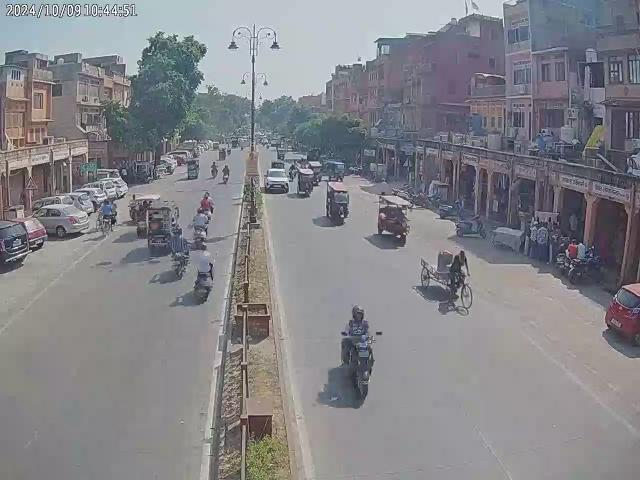auto: (376, 192, 410, 246), (146, 202, 177, 253), (324, 178, 351, 224), (136, 193, 160, 233), (295, 166, 315, 198), (186, 157, 200, 180)
bicycle-rider: (96, 198, 117, 236)
car: (0, 214, 49, 268), (32, 196, 92, 240), (605, 280, 640, 344), (77, 172, 128, 200), (264, 166, 288, 194)
helmet: (351, 305, 366, 322), (199, 242, 208, 250), (176, 226, 183, 233), (196, 208, 204, 214)
motorbike: (567, 253, 604, 285)
motorbike-rider: (168, 226, 192, 278), (193, 206, 210, 247), (220, 163, 231, 183)
person: (527, 216, 550, 262), (210, 161, 218, 180)
rickshow: (418, 246, 474, 316)
scooty: (455, 212, 487, 236), (438, 198, 466, 220)
scooty-rider: (338, 305, 379, 401), (194, 239, 215, 299)
